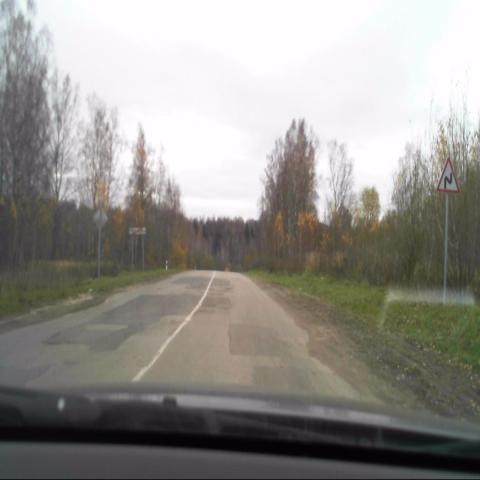1_12: (436, 154, 461, 192)
